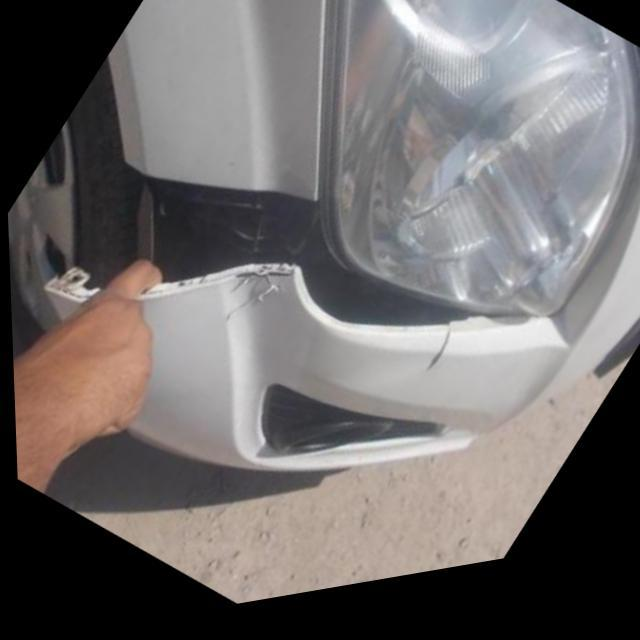dislocated part: (43, 164, 492, 341)
